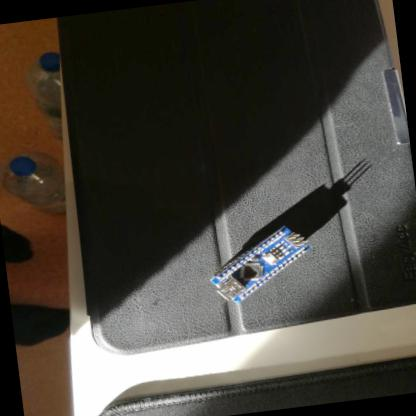Arduino_Nano: (203, 221, 319, 309)
